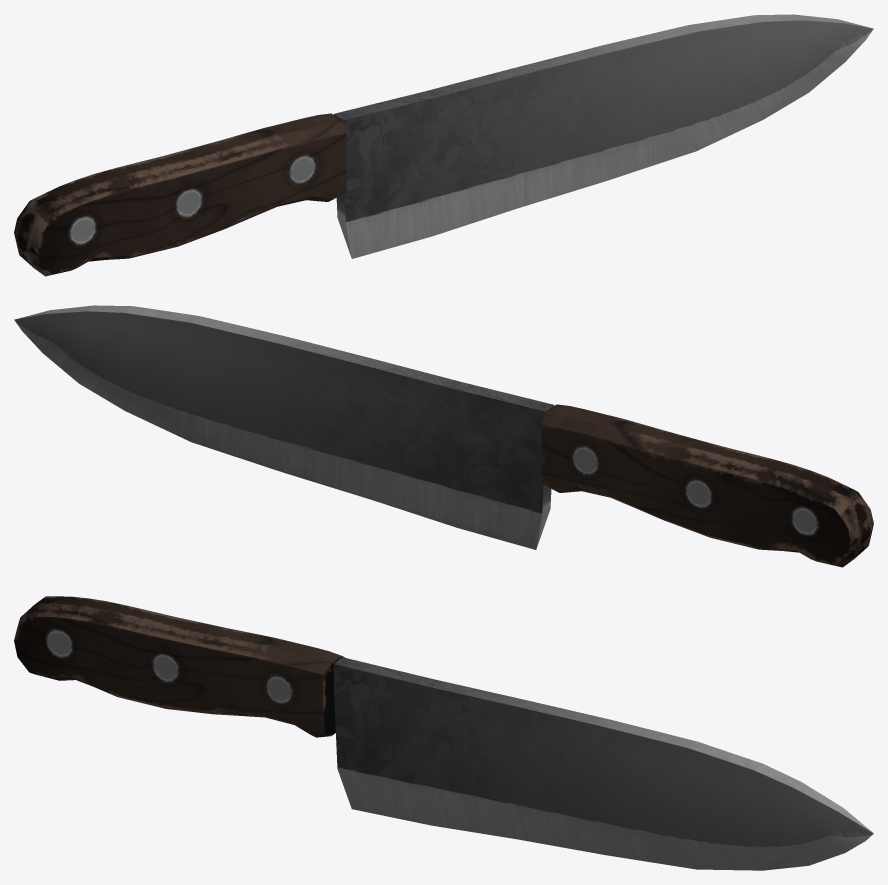
Rendered from Knife_Ready.fbx.
The picture shows the model from 3 angles, top to bottom: view 1: azimuth 30°, elevation 25°; view 2: azimuth 150°, elevation 25°; view 3: azimuth 330°, elevation 25°; orthographic projection.
Visible parts, largest first — view 1: Knife_Ready; view 2: Knife_Ready; view 3: Knife_Ready.
Part boxes in pixels (x1,y1,x2,y2): Knife_Ready: (14,14,873,276); Knife_Ready: (14,305,873,567); Knife_Ready: (14,596,873,870).
Size of the model in its own units: 84.08 by 13.97 by 4.
